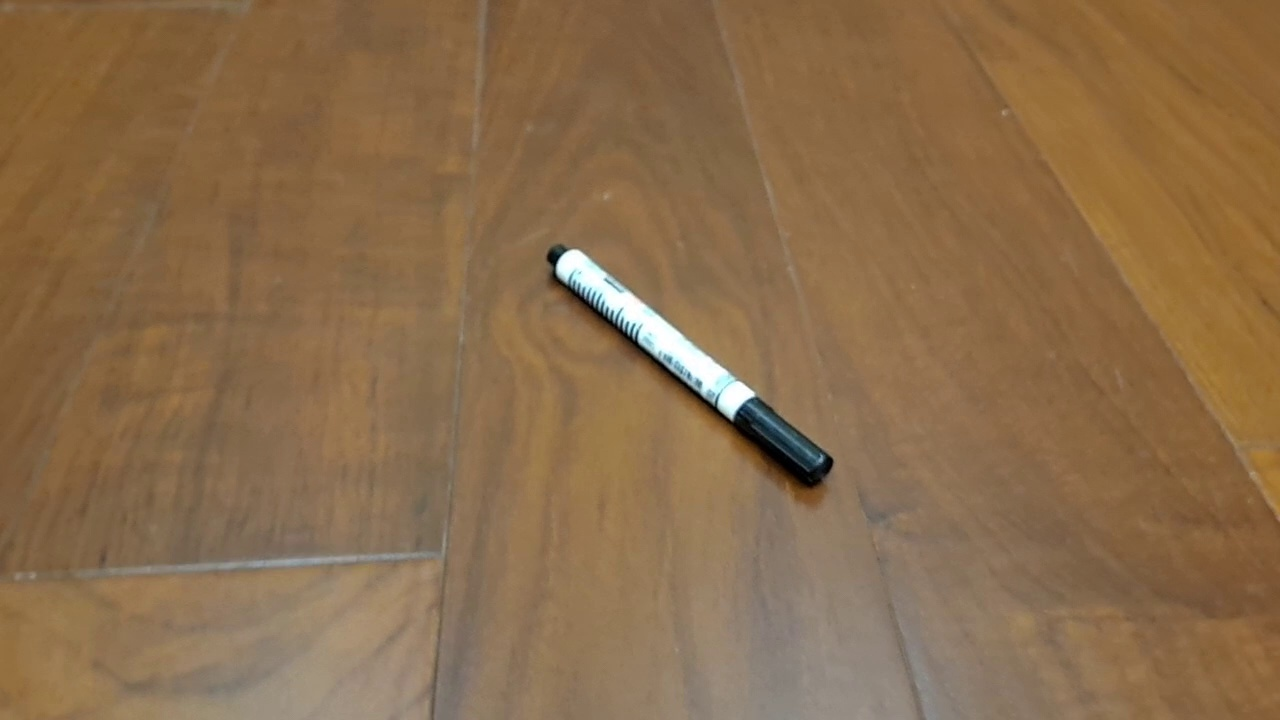pen: (545, 242, 835, 489)
